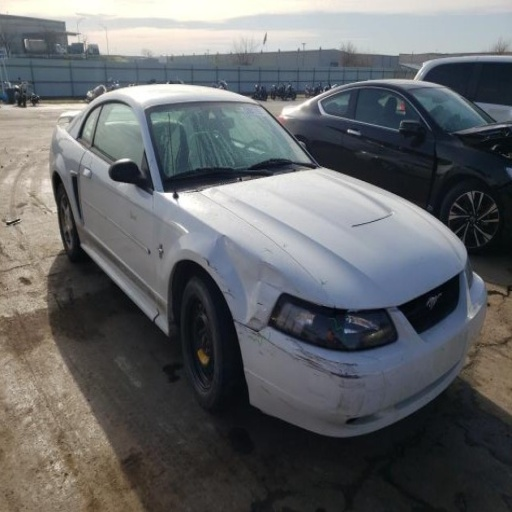dent: (205, 234, 301, 322)
rust: (199, 349, 208, 363)
scratch: (286, 340, 365, 379), (363, 355, 386, 412), (334, 378, 366, 418), (234, 322, 267, 344), (270, 341, 297, 360), (306, 364, 331, 380), (277, 396, 301, 412), (256, 257, 279, 269), (261, 279, 285, 290), (307, 388, 325, 397), (262, 247, 278, 255), (318, 275, 329, 286), (266, 344, 275, 356), (379, 392, 386, 406), (366, 388, 389, 392), (224, 288, 234, 297), (130, 210, 137, 220), (261, 248, 273, 253), (294, 283, 299, 294), (381, 371, 385, 384), (263, 386, 270, 393), (260, 349, 265, 358), (268, 331, 271, 342), (282, 243, 288, 248), (440, 347, 445, 352), (257, 303, 263, 306), (441, 346, 445, 350), (442, 327, 445, 331), (312, 373, 318, 375)
